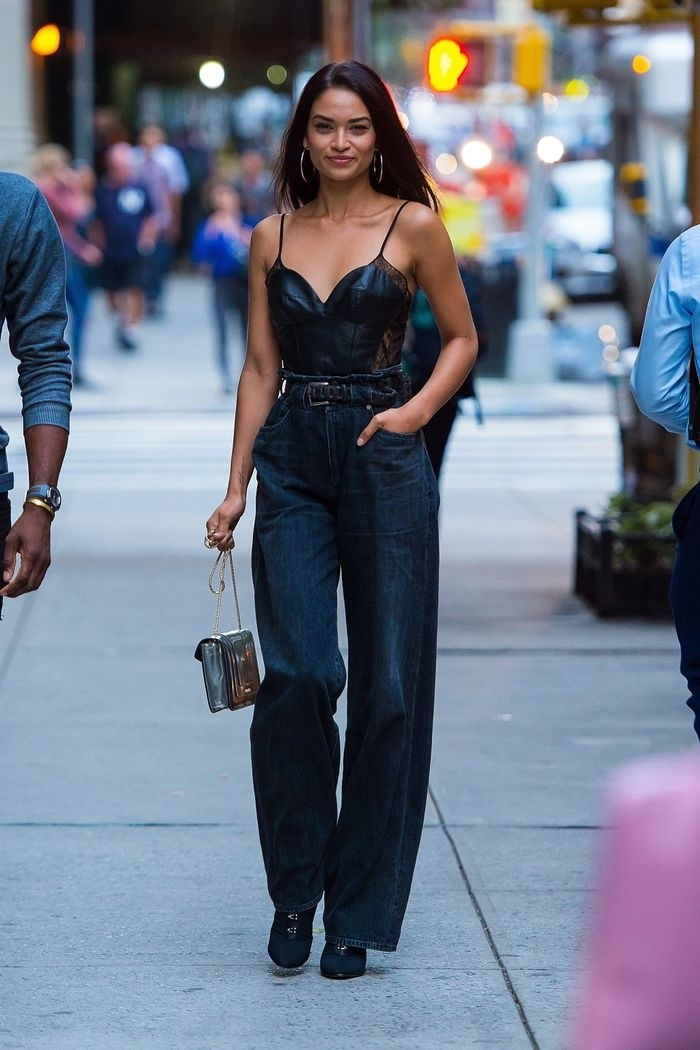face_no_mask: (293, 69, 393, 191)
